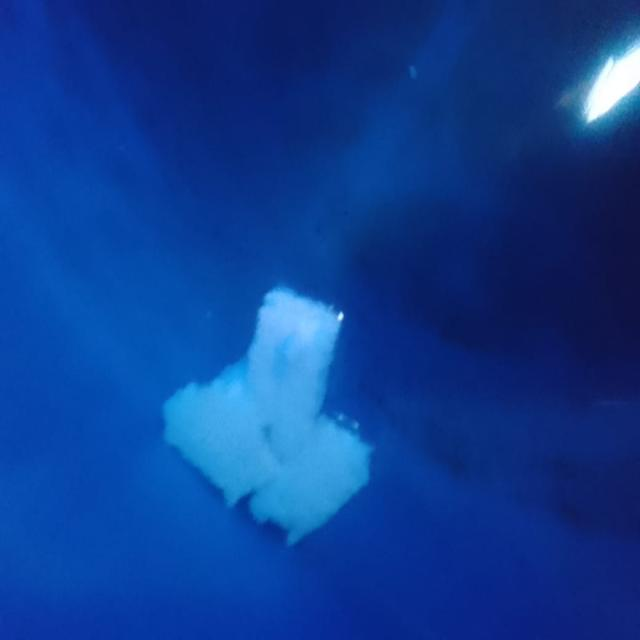thermocoal: (150, 266, 394, 560)
